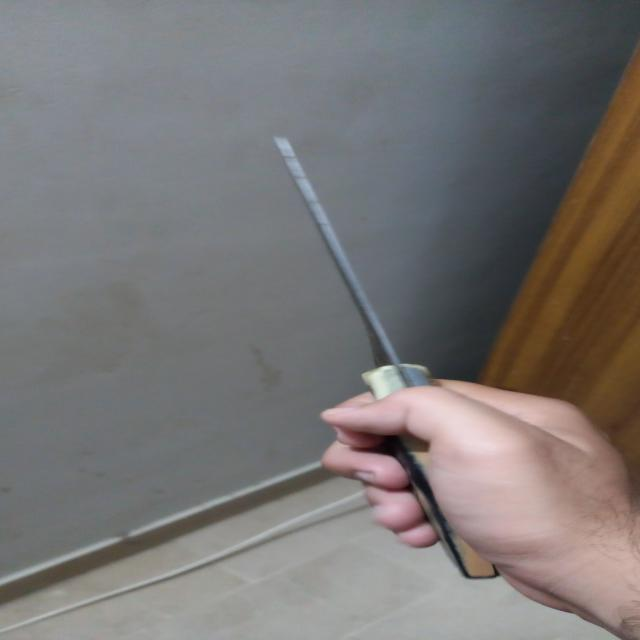knife: (234, 115, 528, 626)
